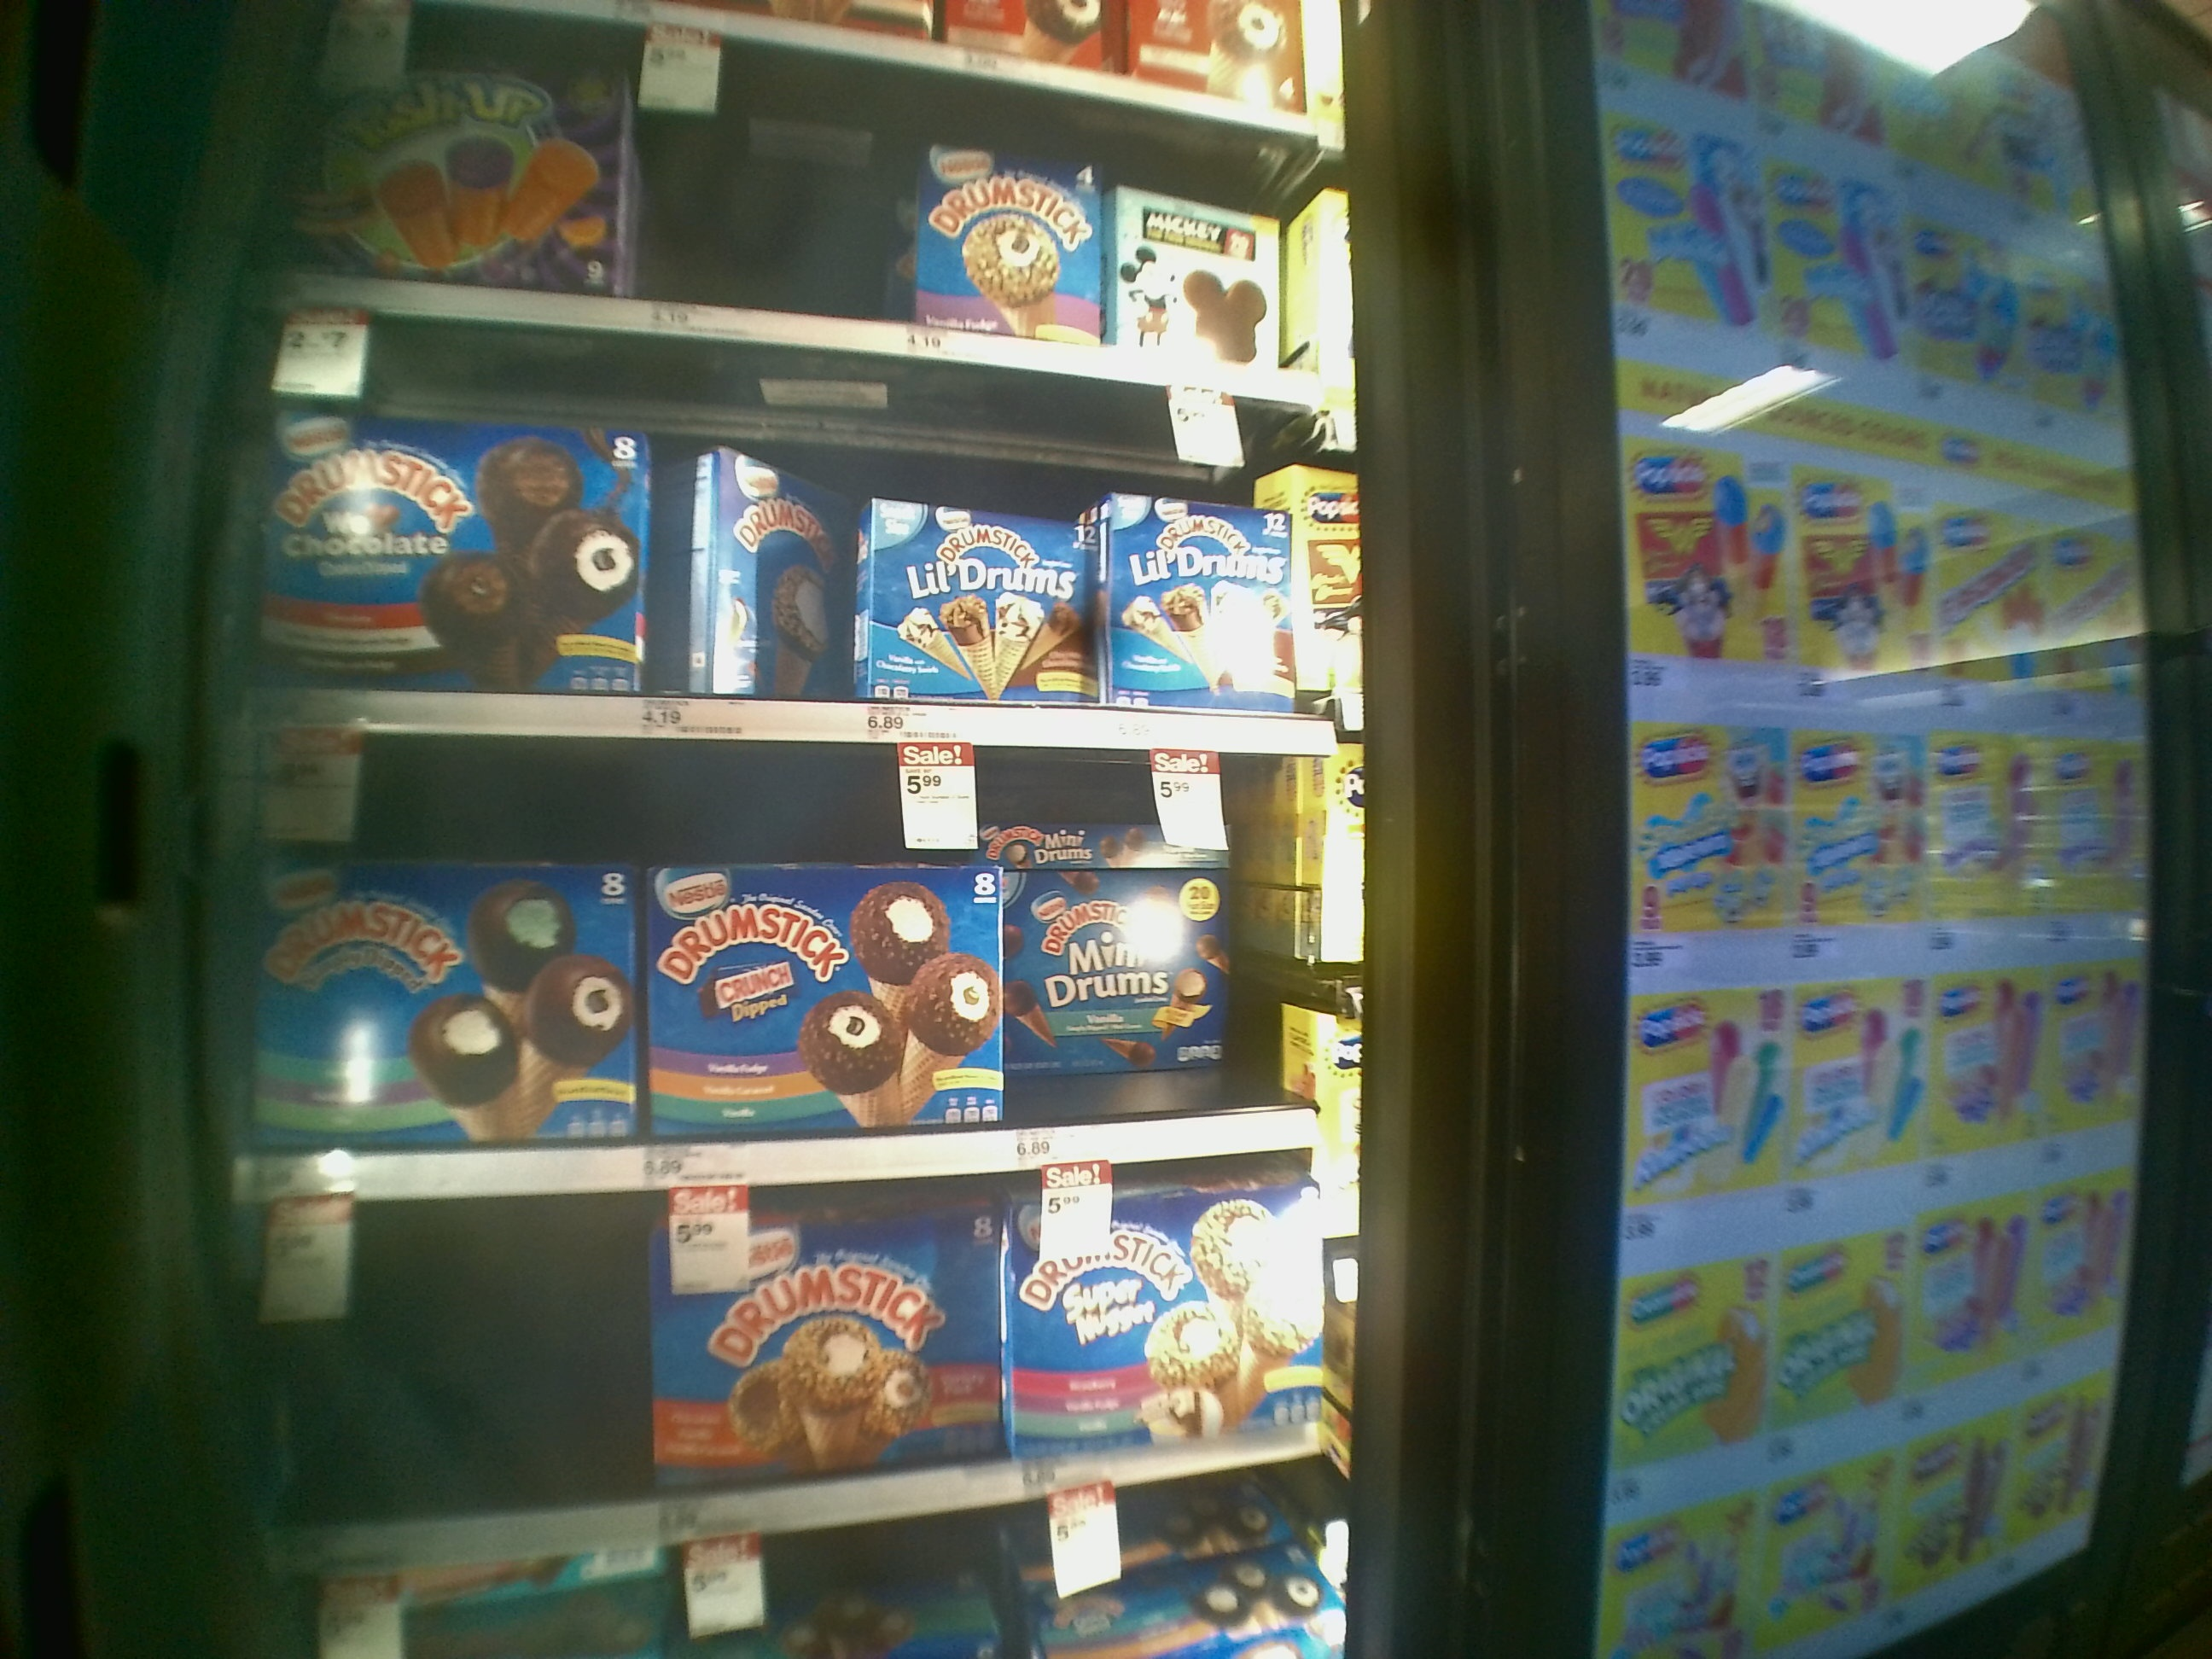shelf: (230, 739, 1362, 1195), (235, 295, 1353, 751)
